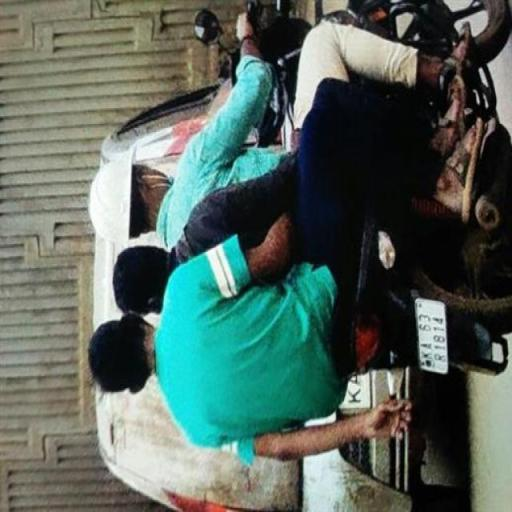tripple riding: (82, 8, 414, 504)
